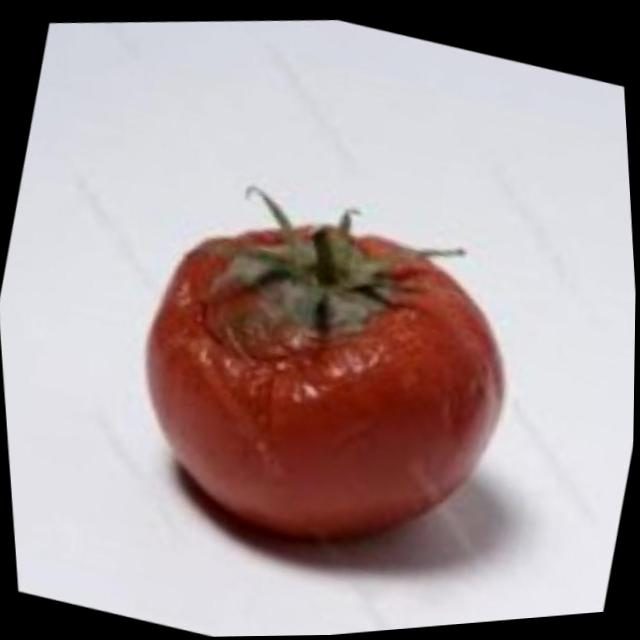tomato: (137, 198, 521, 557)
